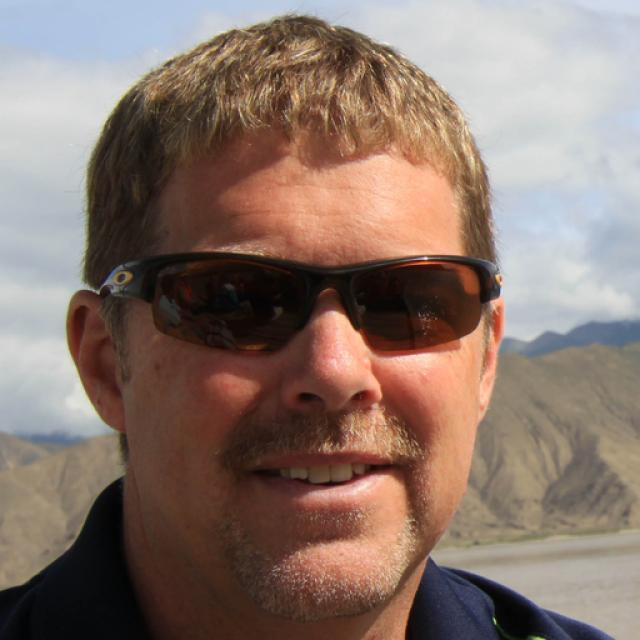happy: (126, 138, 484, 624)
